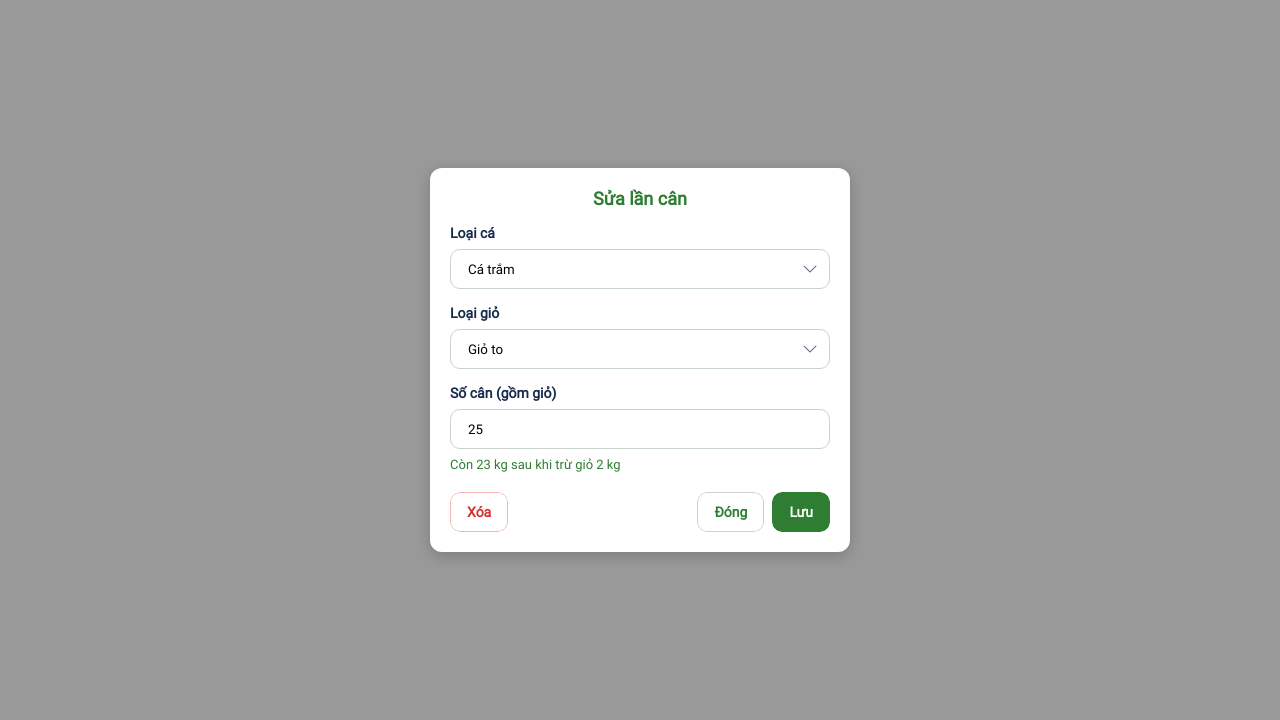
it: số cân không lớn hơn giỏ → cảnh báo trong phần xem trước
Replace the text in the field with id "editFishWeight" with "1,5" at (640, 429), box [452,411,829,447]
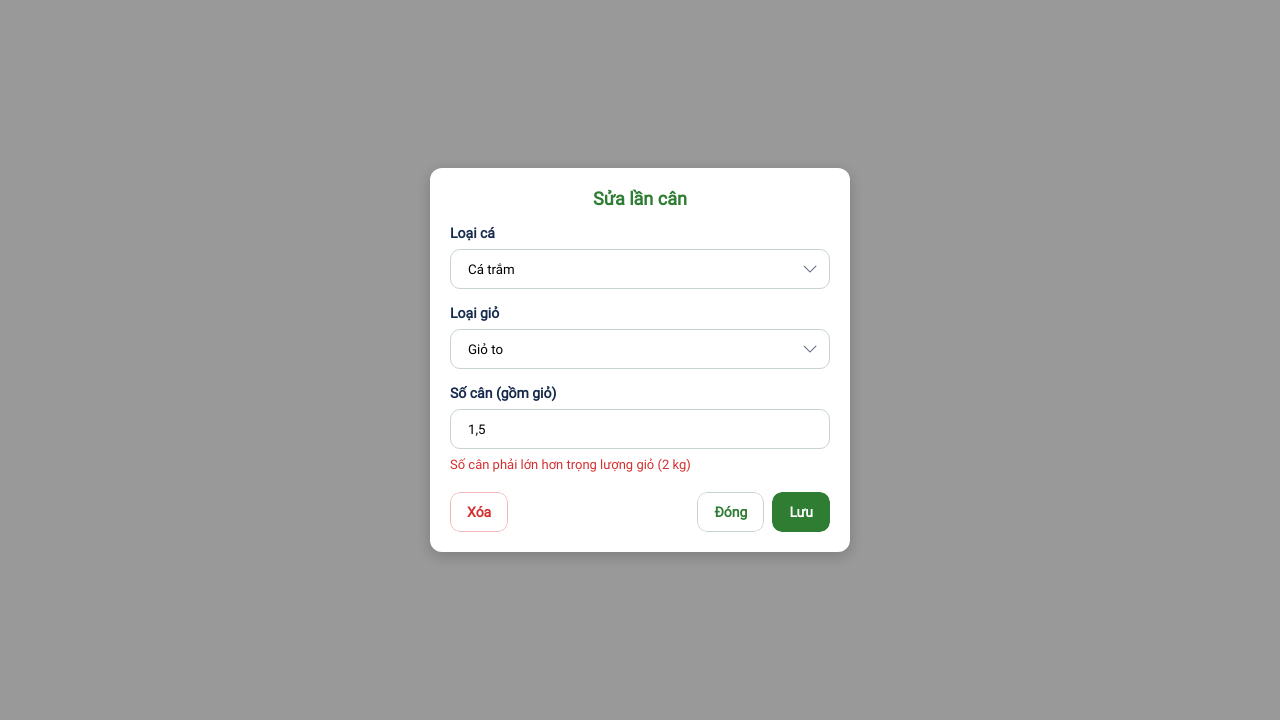
Now the text with class "net-preview" reads "Số cân phải lớn hơn trọng lượng giỏ (2 kg)", box [450,457,691,472]
